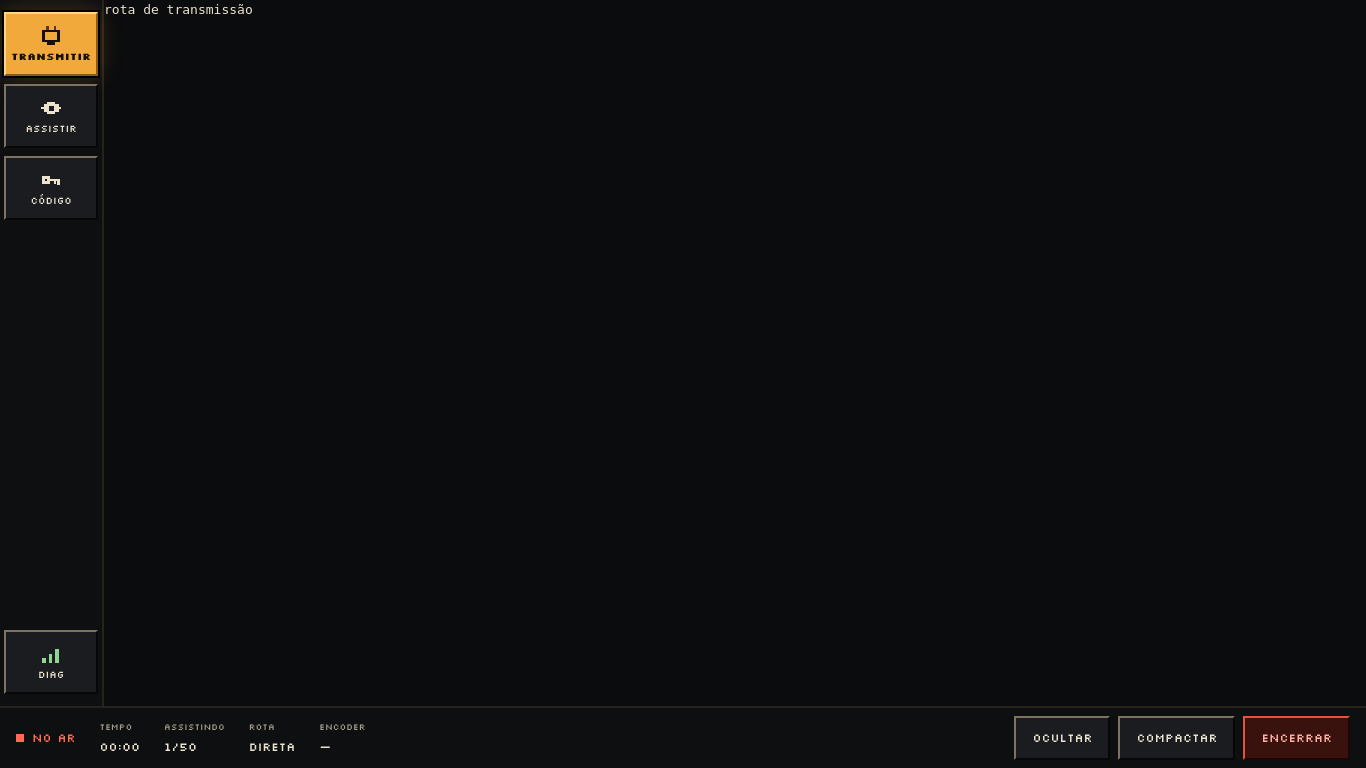
Test: MolduraDesktop — painel NO AR e modo compacto › ao vivo, o painel aparece no pé; ENCERRAR pergunta porque há quem assista
Expected: the element named "Transmissão no ar" shows "1/50", x1=164 y1=739 x2=197 y2=754
Click the button "ENCERRAR". click: (1297, 738)
box: x1=1244 y1=716 x2=1350 y2=760
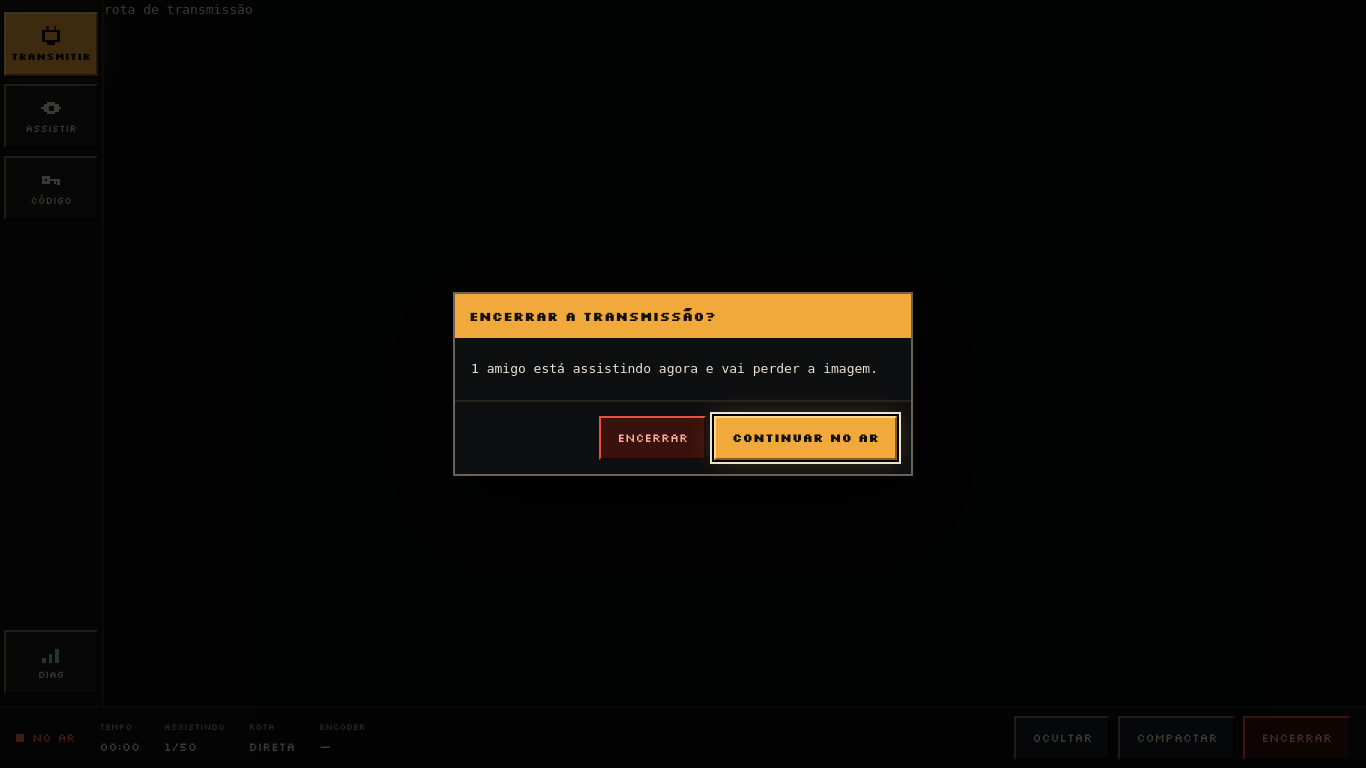
Expected: the dialog shows "ENCERRAR A TRANSMISSÃO?", x1=469 y1=308 x2=716 y2=324
